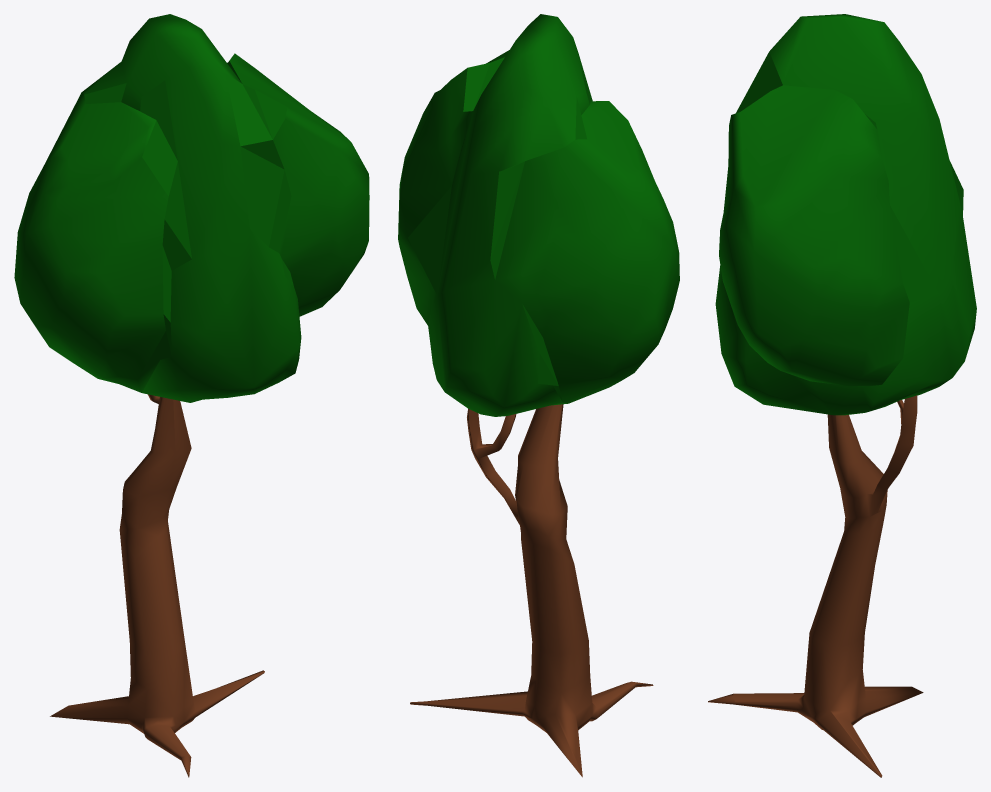
File: Tree1 Myles Lam.fbx
3 views of the same model, side by side, from view 1: azimuth 30°, elevation 25°; view 2: azimuth 150°, elevation 25°; view 3: azimuth 270°, elevation 25° (orthographic). The views are drawn at different scales.
Parts seen in each view (by area): view 1: TreeTop0011, pCylinder5; view 2: TreeTop0011, pCylinder5; view 3: TreeTop0011, pCylinder5.
Boxes of the visible parts, x1,y1,x2,y2 form: TreeTop0011: (14, 14, 369, 402); pCylinder5: (50, 394, 264, 777); TreeTop0011: (398, 14, 679, 416); pCylinder5: (410, 404, 653, 777); TreeTop0011: (715, 14, 976, 415); pCylinder5: (708, 395, 923, 777).
Bounding box in the file's own units: 27.11 × 62.07 × 20.94.
